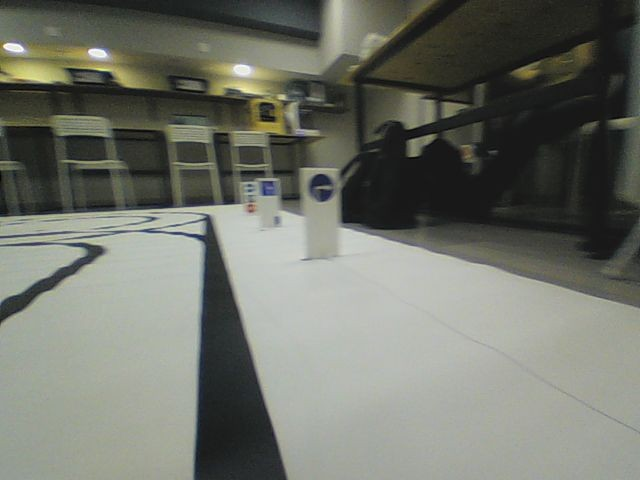Right: (308, 173, 334, 204)
